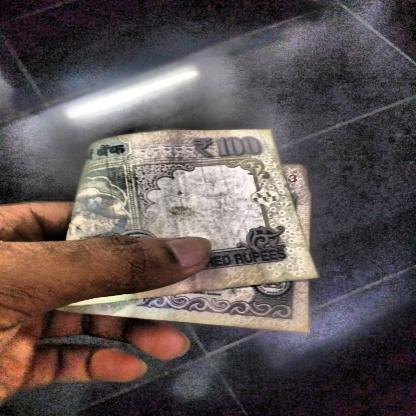Rs100: (189, 134, 267, 160)
